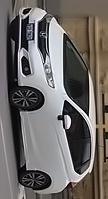Car hood: (48, 14, 66, 89)
Fender - -F-L-: (17, 88, 70, 115)
Fender - -R-L-: (42, 166, 77, 187)
Front bumper: (14, 5, 45, 91)
Headlight - -L-: (41, 49, 58, 89)
Headlight - -R-: (43, 12, 56, 25)
Passenger-s door - -F-L-: (22, 110, 94, 142)
Passenger-s door - -R-L-: (26, 142, 95, 172)
Rear bumper: (28, 186, 62, 199)
Rear light - -L-: (64, 178, 80, 191)
Side bumper - -L-: (17, 109, 33, 174)
Side mirror - -L-: (56, 110, 74, 131)
